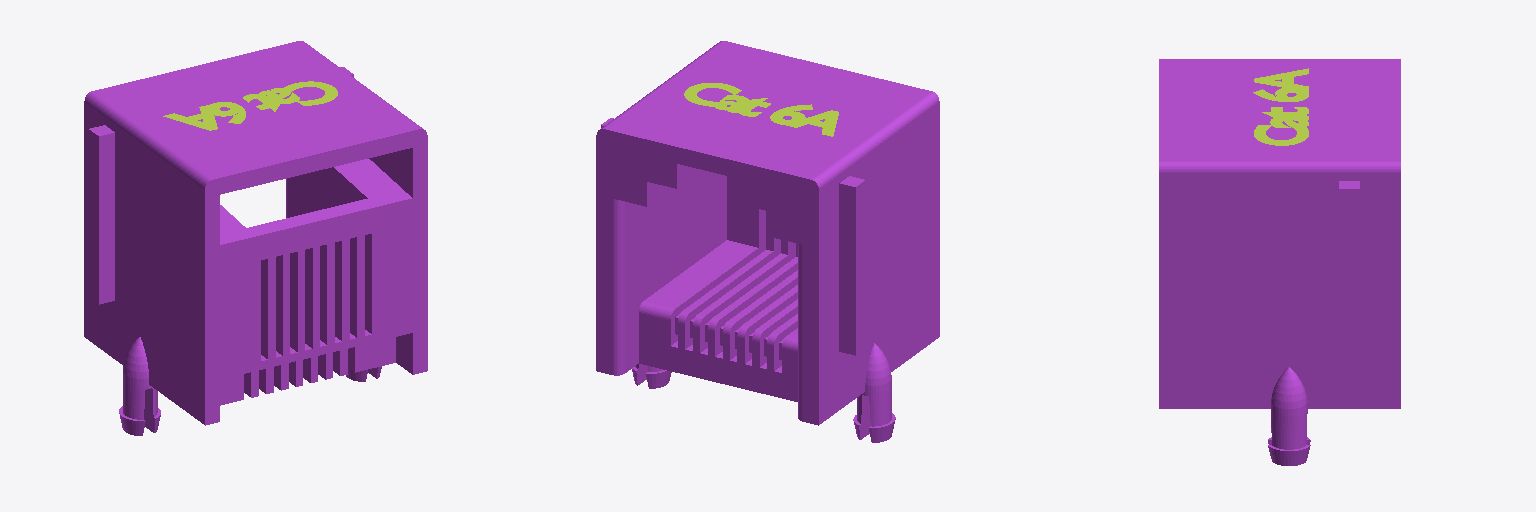
File: socket.obj
3 renders of one model, left to right at view 1: azimuth 30°, elevation 25°; view 2: azimuth 150°, elevation 25°; view 3: azimuth 270°, elevation 25°, orthographic.
Visible parts, largest first — view 1: RJ45_socket, Text_Cat_6A; view 2: RJ45_socket, Text_Cat_6A; view 3: RJ45_socket, Text_Cat_6A.
Part boxes in pixels (bbox=[...]): RJ45_socket: bbox=[84, 41, 427, 435]; Text_Cat_6A: bbox=[163, 81, 337, 130]; RJ45_socket: bbox=[596, 41, 939, 442]; Text_Cat_6A: bbox=[684, 83, 838, 136]; RJ45_socket: bbox=[1159, 59, 1400, 465]; Text_Cat_6A: bbox=[1253, 68, 1308, 145].
Bounding box in the file's own units: 3.48 × 3.84 × 2.82.